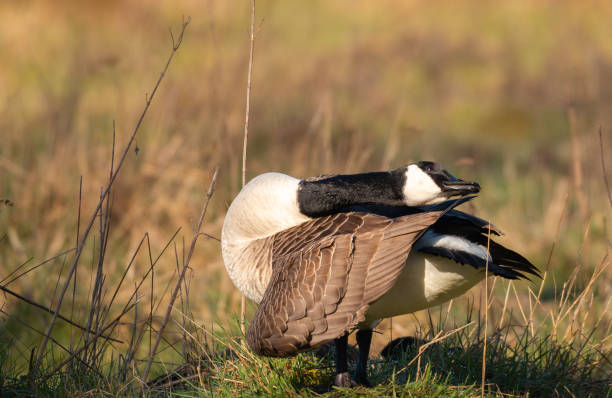goose: (216, 158, 545, 394)
